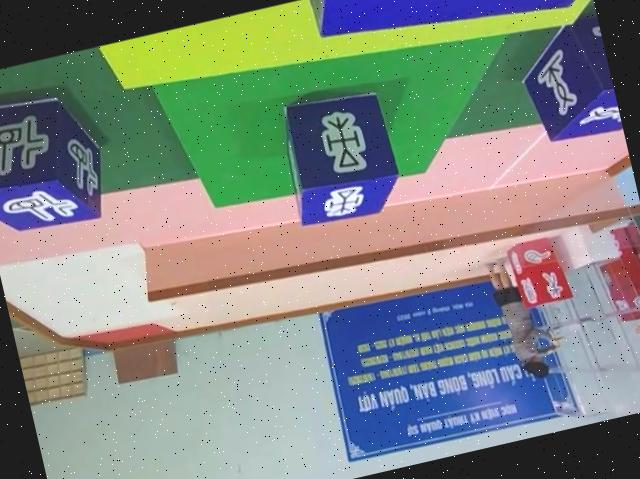R2 Real Blue: (272, 80, 405, 230), (0, 77, 114, 243), (310, 0, 593, 63), (513, 10, 623, 146)
